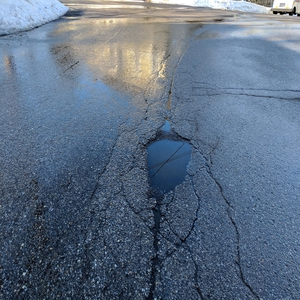pothole: (141, 119, 193, 203)
